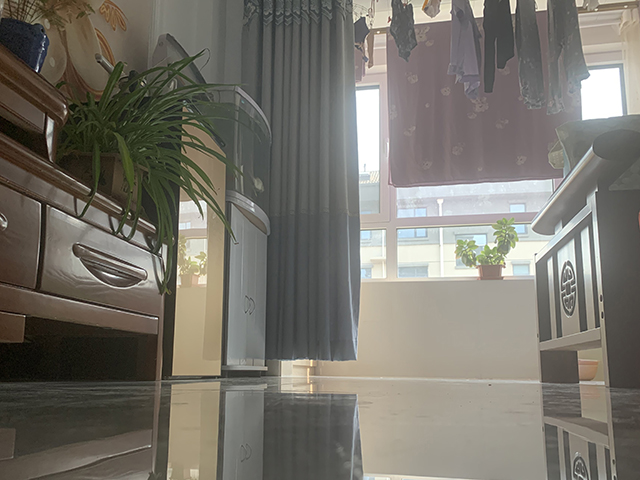cabinet: (1, 41, 178, 383), (144, 96, 228, 381), (221, 201, 269, 379)
curtain: (238, 1, 362, 363)
